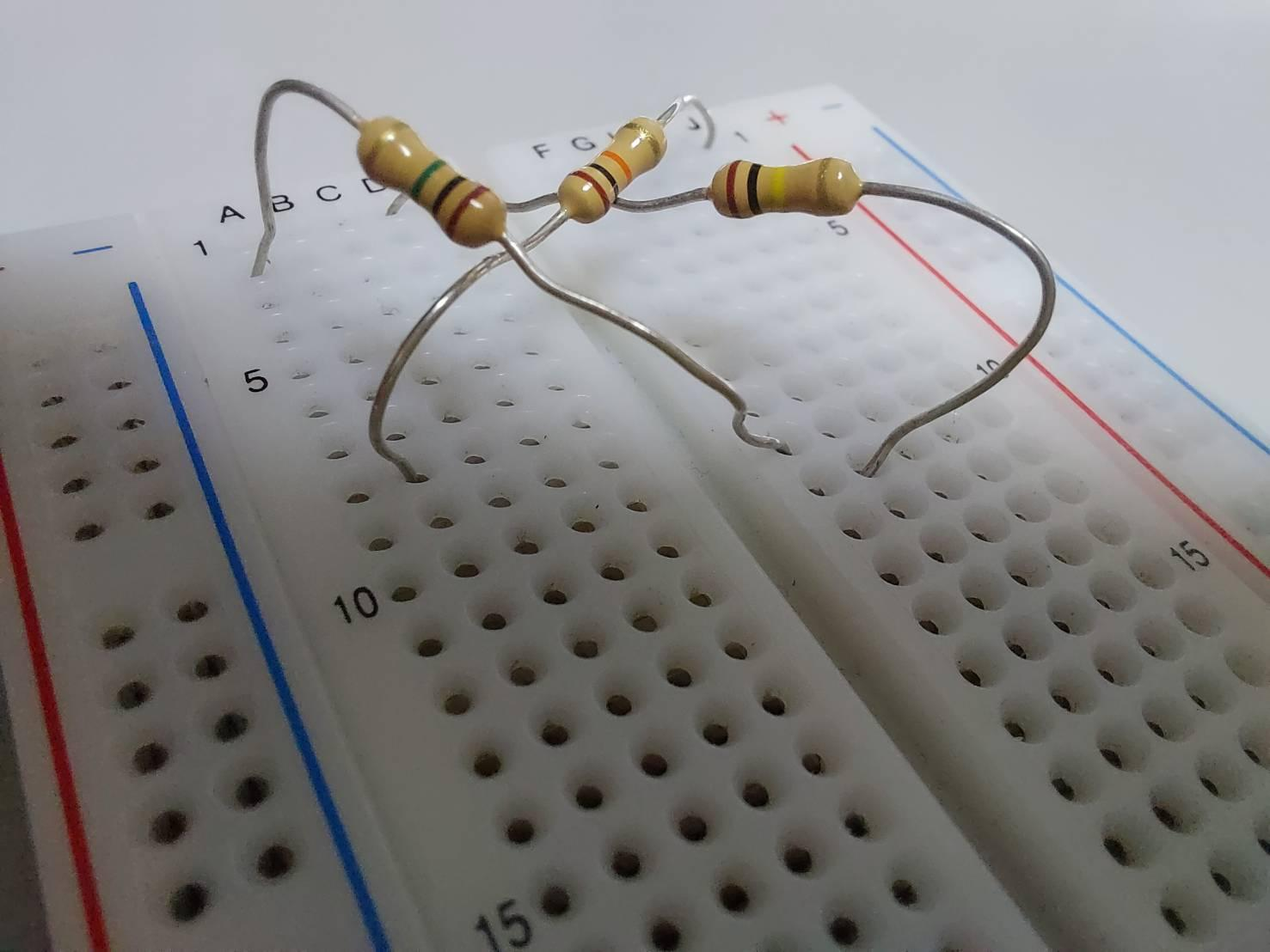resistor: (347, 107, 516, 246), (546, 93, 678, 229), (706, 145, 868, 224)
